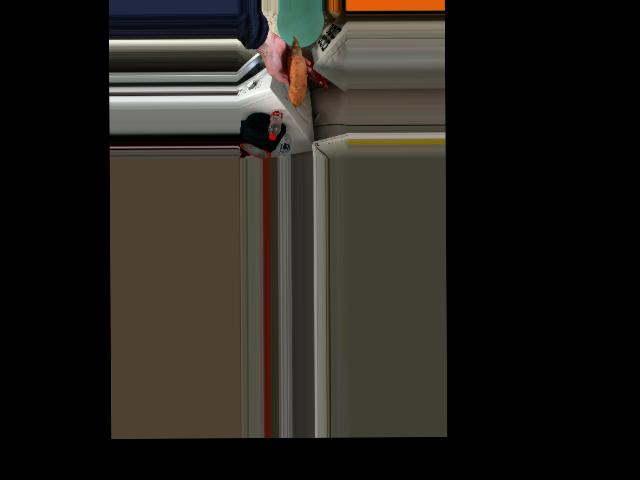sweet_potato: (282, 50, 304, 98)
